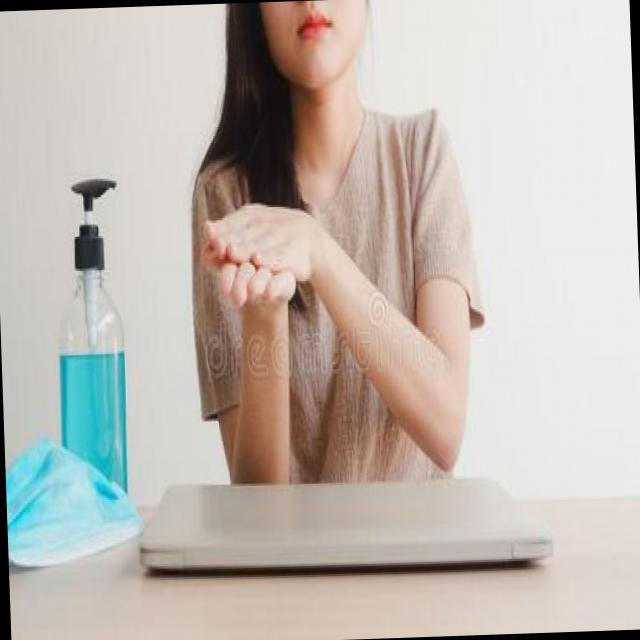sanitizer: (47, 168, 129, 498)
